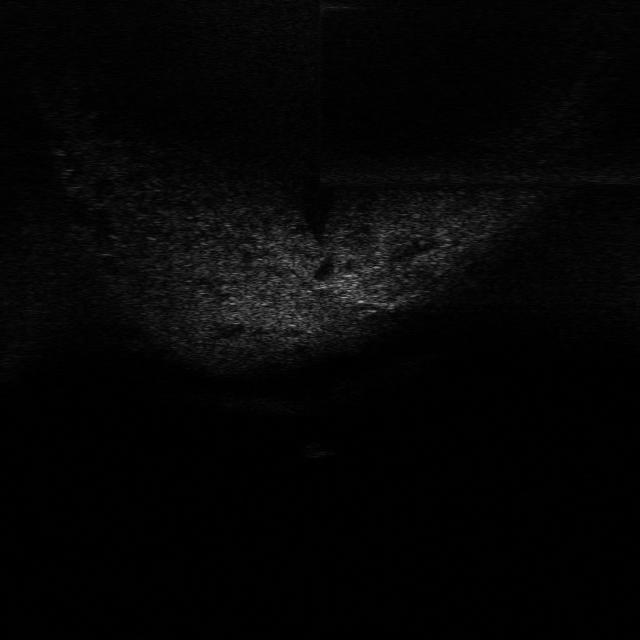cube: (294, 439, 334, 462)
